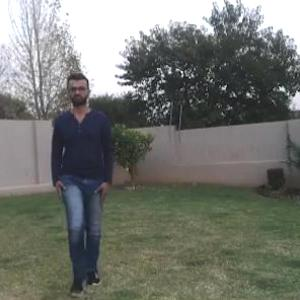follow: (53, 88, 110, 267)
